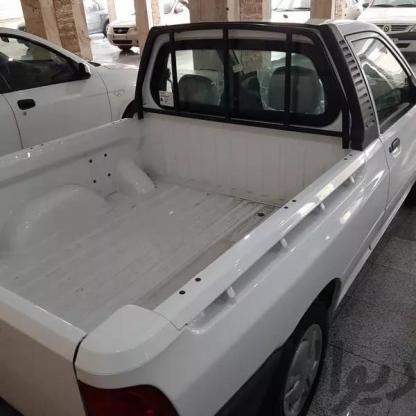Car: (0, 18, 416, 416), (0, 44, 157, 184), (105, 0, 202, 49), (353, 0, 416, 57)
